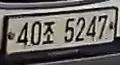0: (30, 19, 43, 48)
2: (75, 16, 86, 42)
4: (16, 20, 30, 48), (87, 15, 97, 40)
5: (63, 16, 75, 44)
7: (97, 13, 108, 40)
조: (42, 20, 56, 46)
